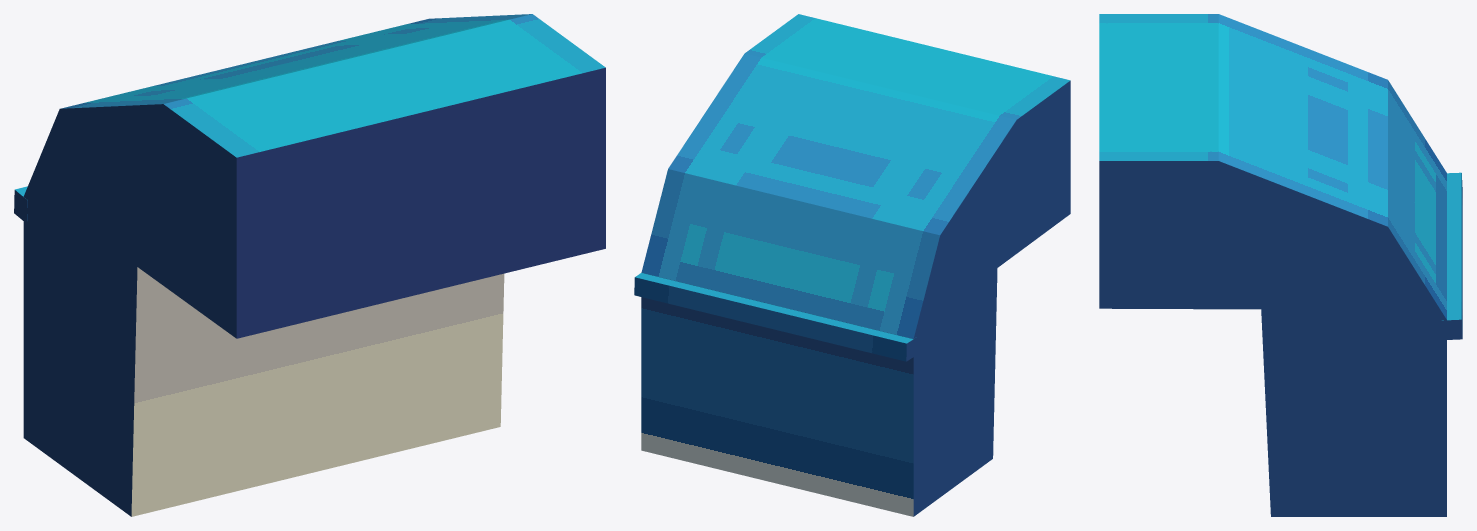
The model's file is df5_carport_2.obj.
3 views of the same model, side by side, from view 1: azimuth 30°, elevation 25°; view 2: azimuth 150°, elevation 25°; view 3: azimuth 270°, elevation 25° (orthographic). The views are drawn at different scales.
Visible parts, largest first — view 1: cube; view 2: cube; view 3: cube.
Part boxes in pixels (x1,y1,x2,y2): cube: (14,14,605,516); cube: (634,14,1070,516); cube: (1099,14,1462,516).
Bounding box in the file's own units: 1 × 1.13 × 1.05.
